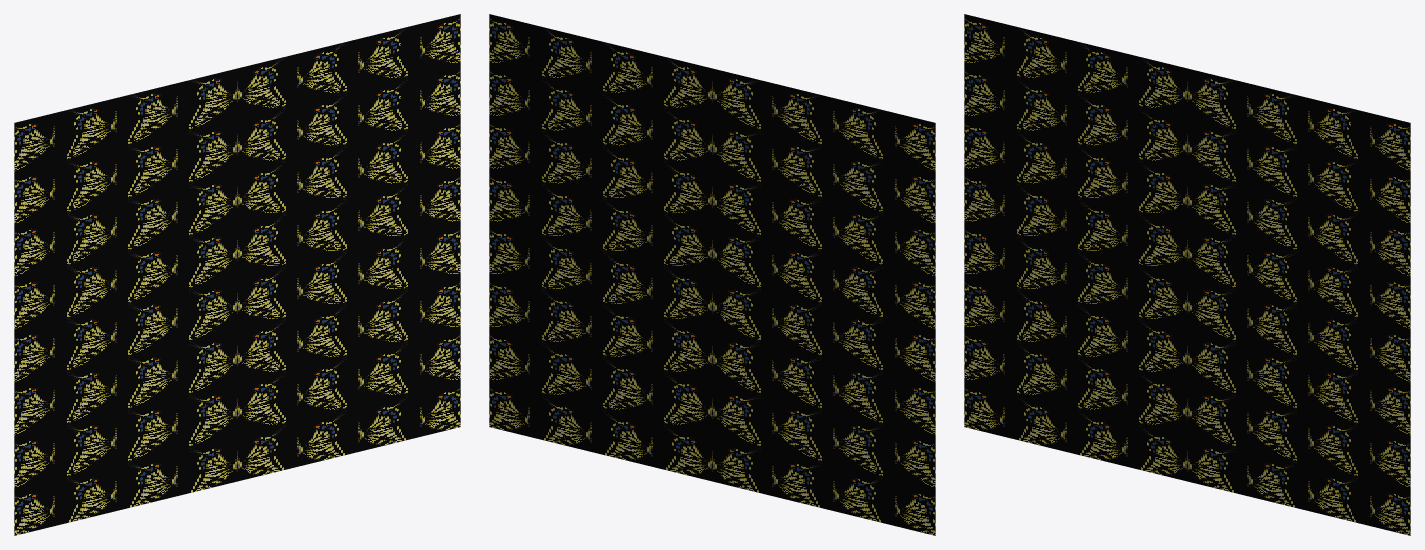
File: 4991musi01_e.gltf
3 views of the same model, side by side, from view 1: azimuth 30°, elevation 25°; view 2: azimuth 150°, elevation 25°; view 3: azimuth 330°, elevation 25° (orthographic).
Visible parts, largest first — view 1: 4991musi01_e; view 2: 4991musi01_e; view 3: 4991musi01_e.
Boxes of the visible parts, x1,y1,x2,y2 form: 4991musi01_e: (14, 14, 460, 535); 4991musi01_e: (489, 14, 935, 535); 4991musi01_e: (964, 14, 1410, 535).
Size of the model in its own units: 0.2822 by 0.2495 by 0.
Materials: 1 (1 with a texture image).
